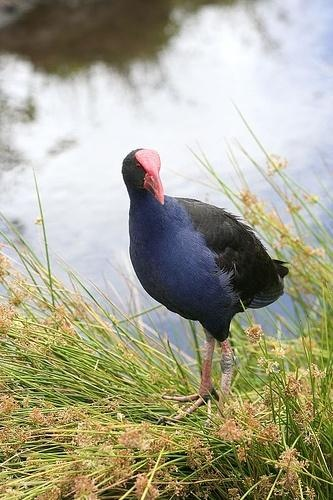bird: (121, 148, 291, 429)
